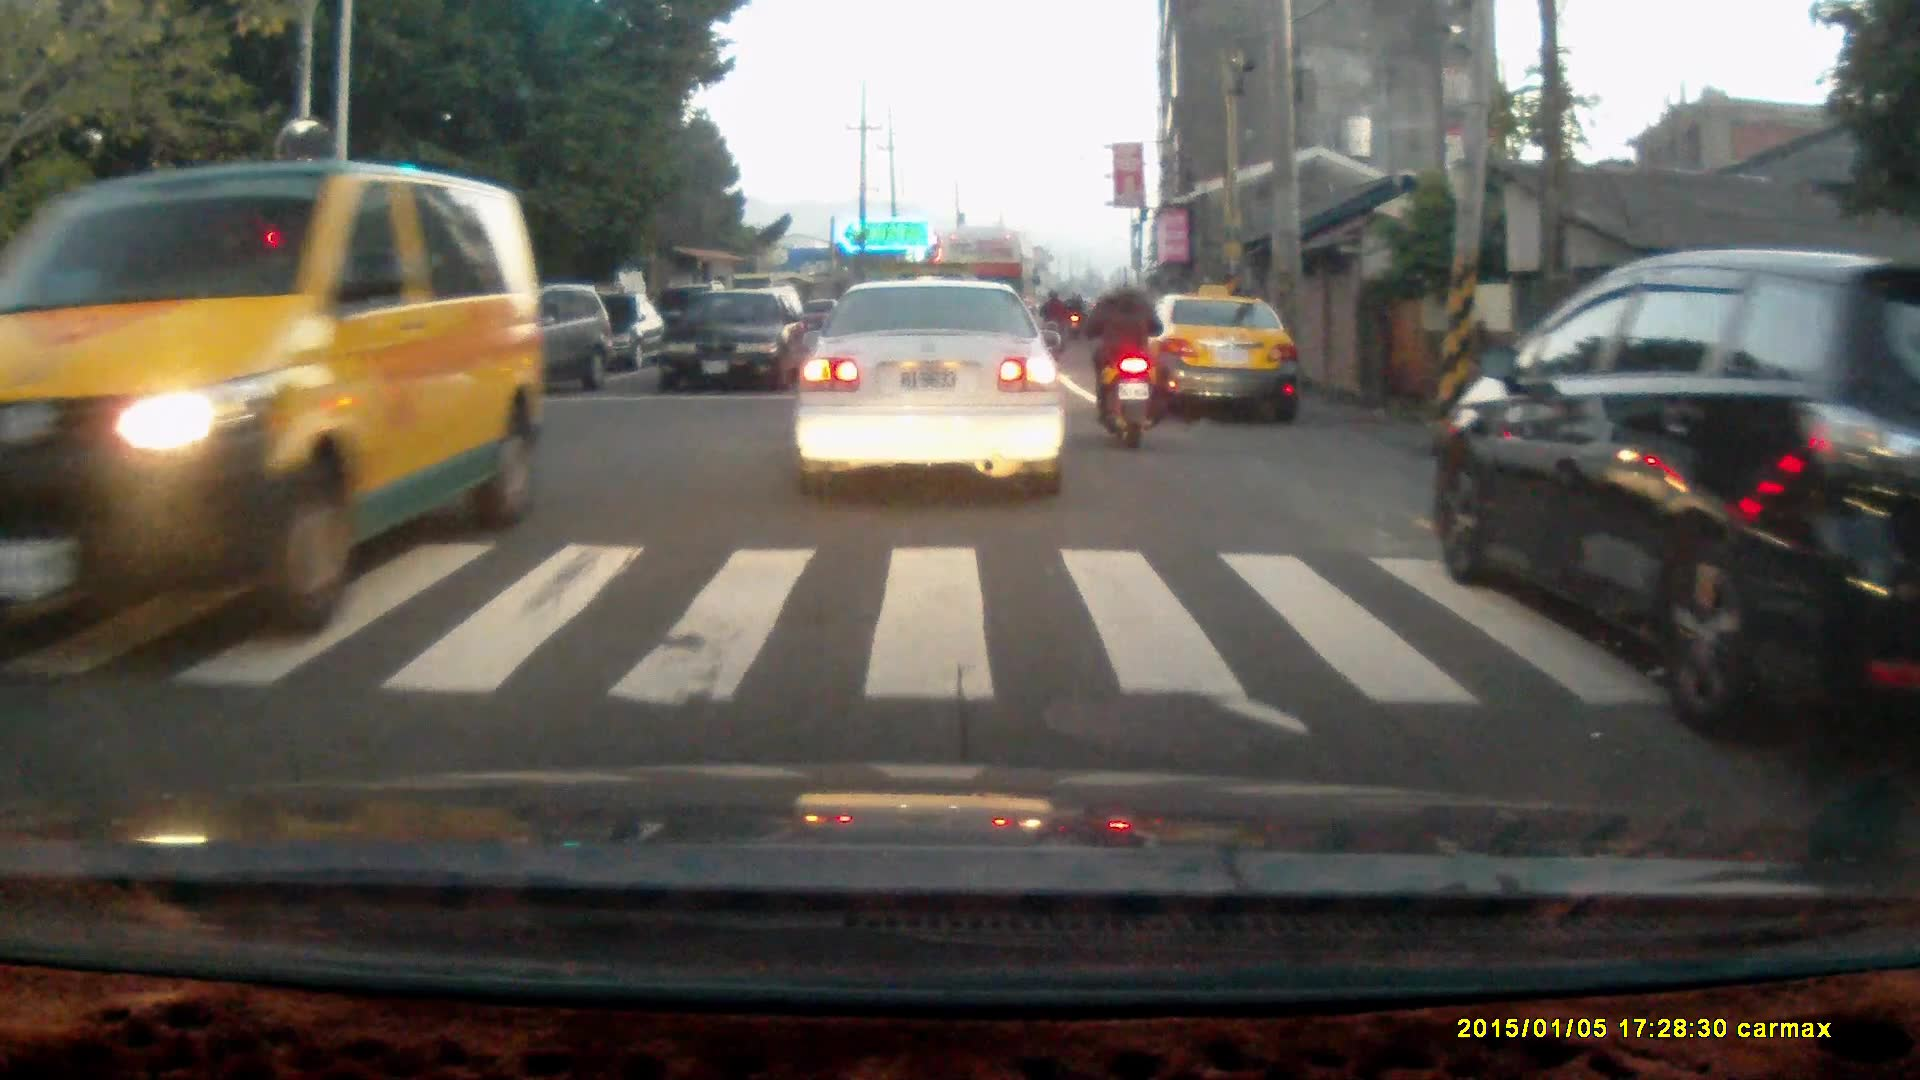rider: (1078, 262, 1166, 450)
vehicle: (1, 158, 543, 640), (1436, 245, 1920, 750), (793, 275, 1070, 501), (1128, 293, 1298, 425), (656, 285, 810, 398)
